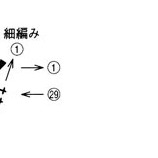enseble_chain: (0, 57, 20, 83), (19, 59, 47, 76), (20, 86, 47, 102), (45, 86, 63, 104), (46, 59, 62, 77), (4, 27, 18, 41), (18, 26, 29, 41)
